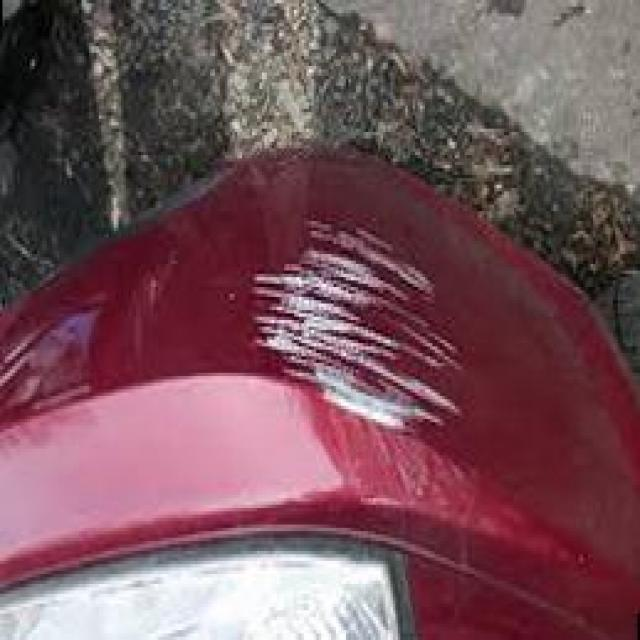scratch: (234, 213, 476, 434)
